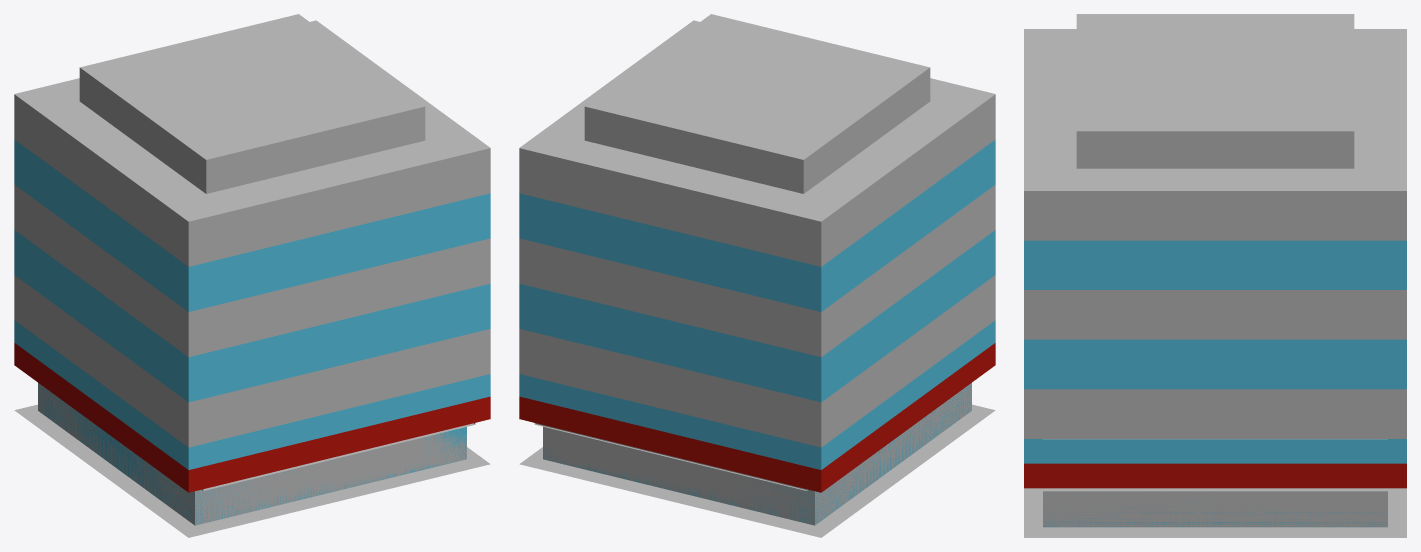
File: ConsuladoCanada.fbx
3 views of the same model, side by side, from view 1: azimuth 30°, elevation 25°; view 2: azimuth 150°, elevation 25°; view 3: azimuth 270°, elevation 25° (orthographic). The views are drawn at different scales.
Parts seen in each view (by area): view 1: Cube; view 2: Cube; view 3: Cube.
Part boxes in pixels (box(x1,y1,x2,y2)): Cube: box(14, 14, 490, 537); Cube: box(519, 14, 995, 537); Cube: box(1024, 14, 1406, 537).
Size of the model in its own units: 13843 by 15302 by 13814.
